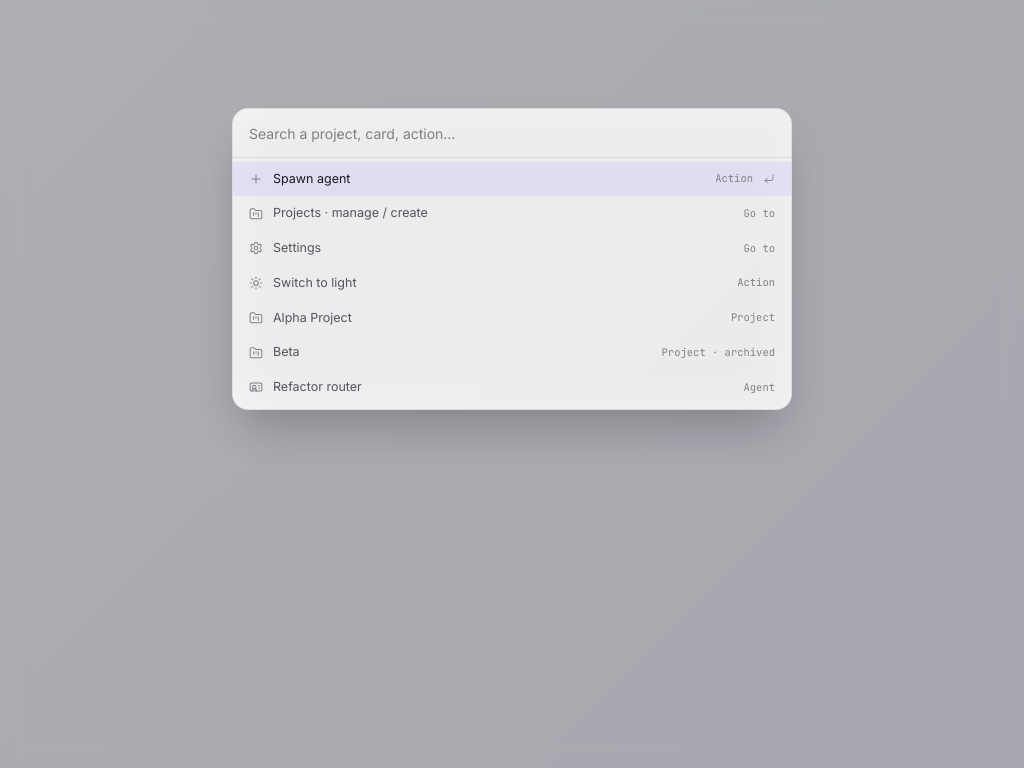
Test: <CommandPalette /> › Empty filter shows the 'No matches.' empty state
Step 1. Type "zzzzz-nope" into the field with placeholder "Search a project, card, action…" → (512, 133), box [249, 122, 775, 144]
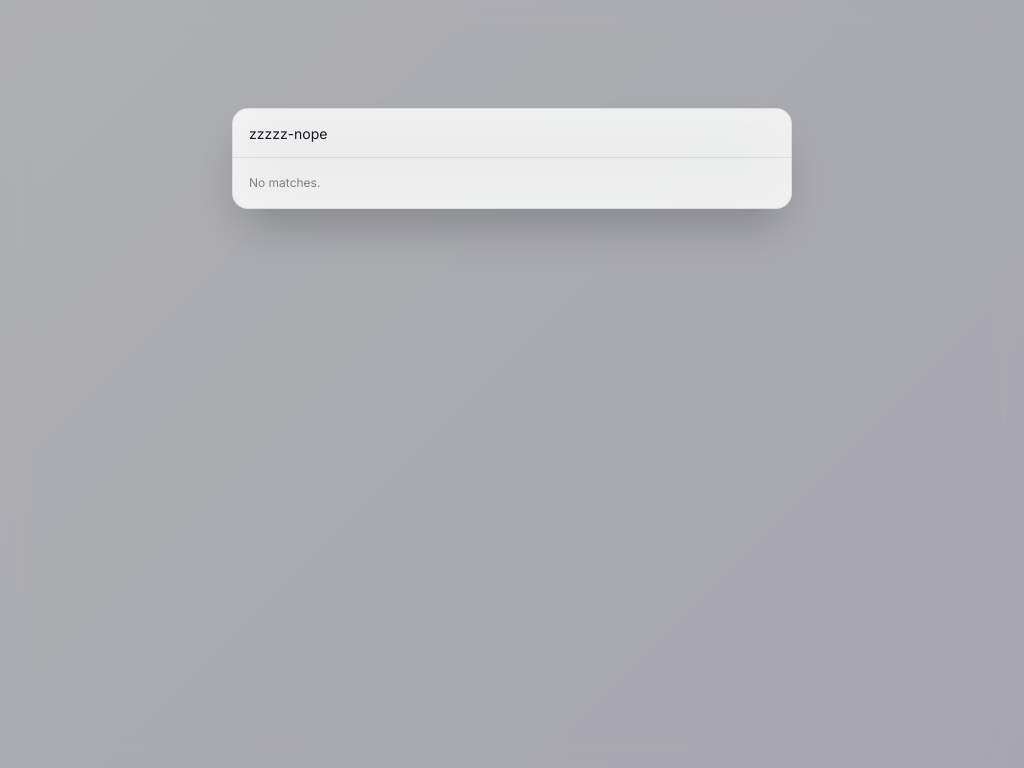
Expected: the list item "No matches." is shown, [249, 174, 320, 190]
